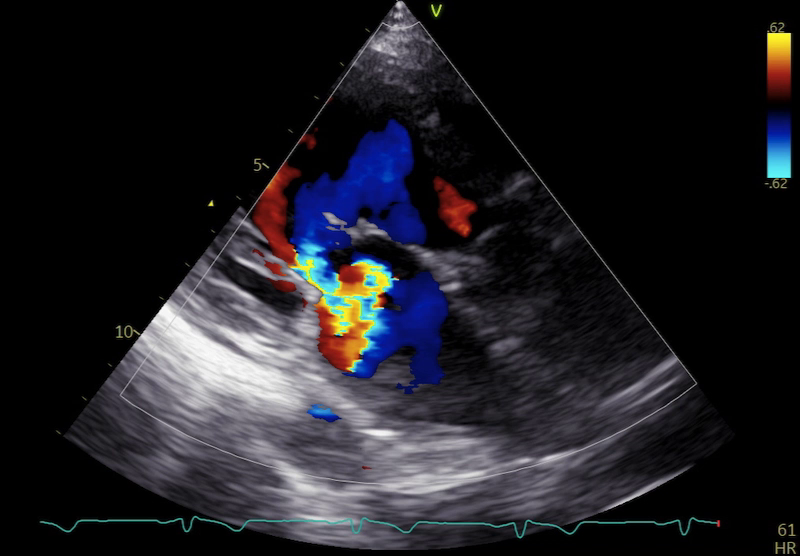MR: (290, 209, 375, 337)
